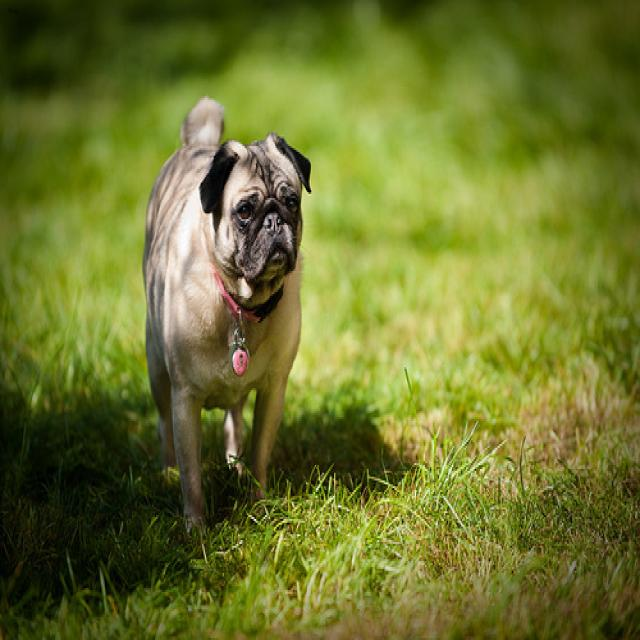dog-pug: (137, 92, 317, 544)
